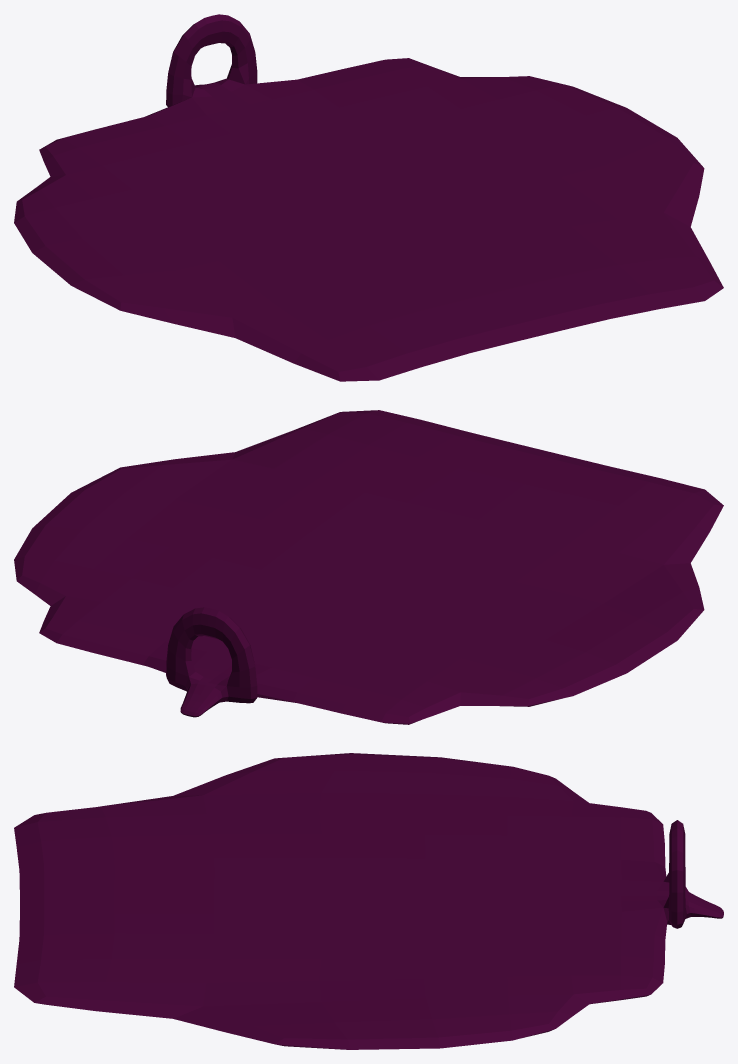
Rendered from palacebase.fbx.
The picture shows the model from 3 angles, top to bottom: view 1: azimuth 30°, elevation 25°; view 2: azimuth 150°, elevation 25°; view 3: azimuth 270°, elevation 25°; orthographic projection.
Visible parts, largest first — view 1: Cube; view 2: Cube; view 3: Cube.
Boxes of the visible parts, x1,y1,x2,y2 form: Cube: (14, 14, 723, 381); Cube: (14, 410, 723, 724); Cube: (14, 753, 723, 1049).
Size of the model in its own units: 8053 by 1151 by 8138.
